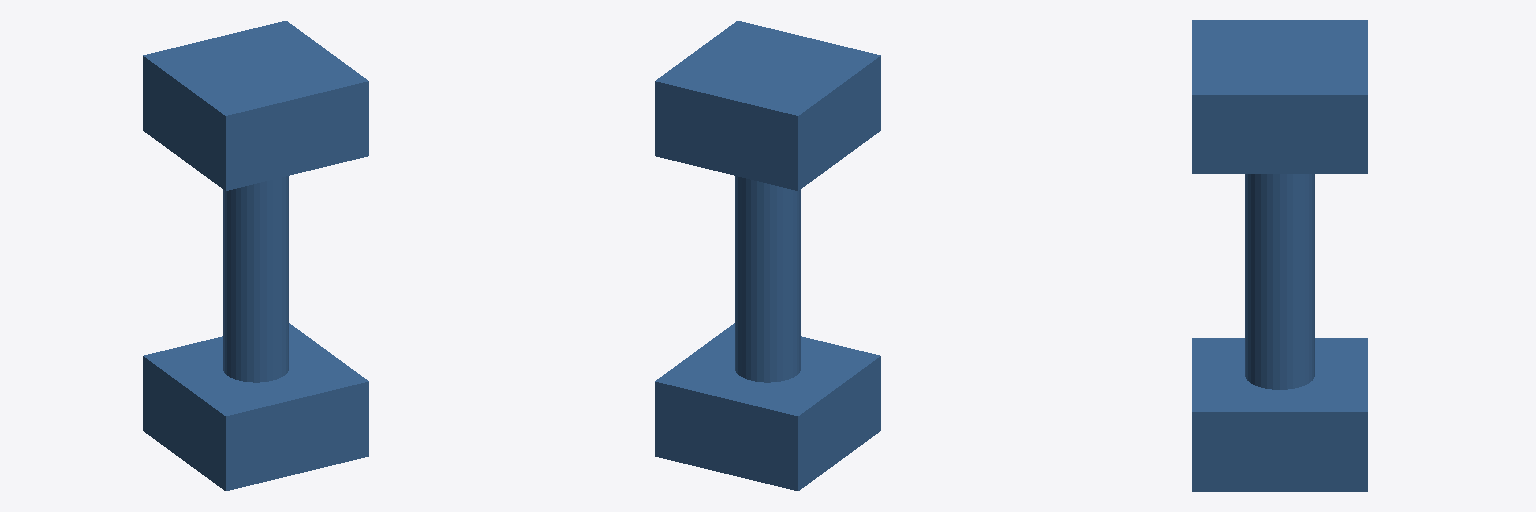
URDF robot description (dumbbell.urdf):
<?xml version="0.0" ?>
<robot name="dumbbell.urdf">
  <link name="baseLink">
    <contact>
      <lateral_friction value="1.0"/>
      <rolling_friction value="0.0001"/>
      <inertia_scaling value="3.0"/>
    </contact>
    <inertial>
      <origin rpy="0 0 0" xyz="0 0 0"/>
       <mass value=".1"/>
       <inertia ixx="1" ixy="0" ixz="0" iyy="1" iyz="0" izz="1"/>
    </inertial>
    <visual>
      <origin rpy="0 0 0" xyz="0 0 0"/>
      <geometry>
        <cylinder radius=".01" length="0.12"/>
      </geometry>
      <material name="green">
        <color rgba="0.3059 0.4745 0.6549 1"/>
      </material>
    </visual>
    <visual>
      <origin rpy="0 0 0" xyz="0 0 0.05"/>
      <geometry>
        <box size=".05 .05 .025"/>
      </geometry>
      <material name="green">
        <color rgba="0.3059 0.4745 0.6549 1"/>
      </material>
    </visual>
    <visual>
      <origin rpy="0 0 0" xyz="0 0 -0.05"/>
      <geometry>
        <box size=".05 .05 .025"/>
      </geometry>
      <material name="green">
        <color rgba="0.3059 0.4745 0.6549 1"/>
      </material>
    </visual>
    <collision>
      <origin rpy="0 0 0" xyz="0 0 0"/>
      <geometry>
        <cylinder radius=".01" length="0.12"/>
      </geometry>
    </collision>
    <collision>
      <origin rpy="0 0 0" xyz="0 0 0.05"/>
      <geometry>
        <box size=".05 .05 .025"/>
      </geometry>
    </collision>
    <collision>
      <origin rpy="0 0 0" xyz="0 0 -0.05"/>
      <geometry>
        <box size=".05 .05 .025"/>
      </geometry>
    </collision>
  </link>
</robot>

--- Facts derived from the render (not from the file) ---
The picture shows the robot from 3 angles, left to right: view 1: azimuth 30°, elevation 25°; view 2: azimuth 150°, elevation 25°; view 3: azimuth 270°, elevation 25°; orthographic projection.
Robot: dumbbell.urdf — 1 links, 0 joints (none); root link baseLink; default pose: all joints at 0.
Visible links, largest first — view 1: baseLink; view 2: baseLink; view 3: baseLink.
Link boxes in pixels (left/top/right/bottom): baseLink: left=143, top=21, right=368, bottom=490; baseLink: left=655, top=21, right=880, bottom=490; baseLink: left=1192, top=20, right=1367, bottom=491.
Bounding box of the posed robot: 0.05 × 0.05 × 0.125 m (x, y, z).
Geometry: primitives only (box / cylinder / sphere), no mesh files.